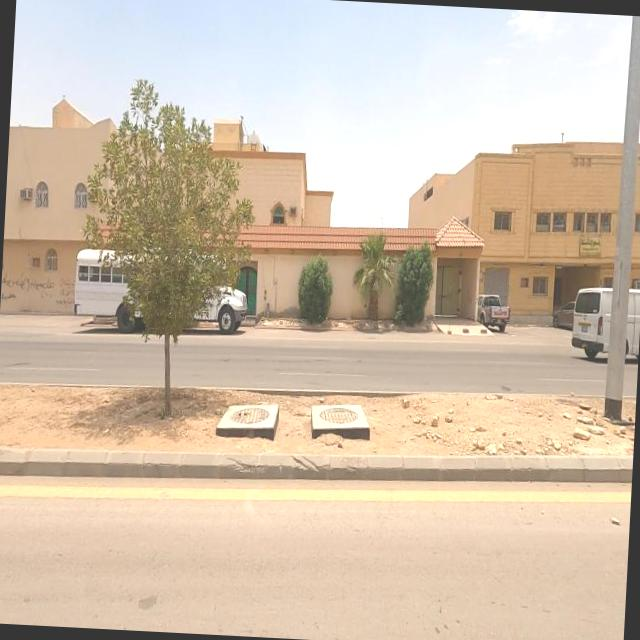debris: (0, 241, 97, 334)
